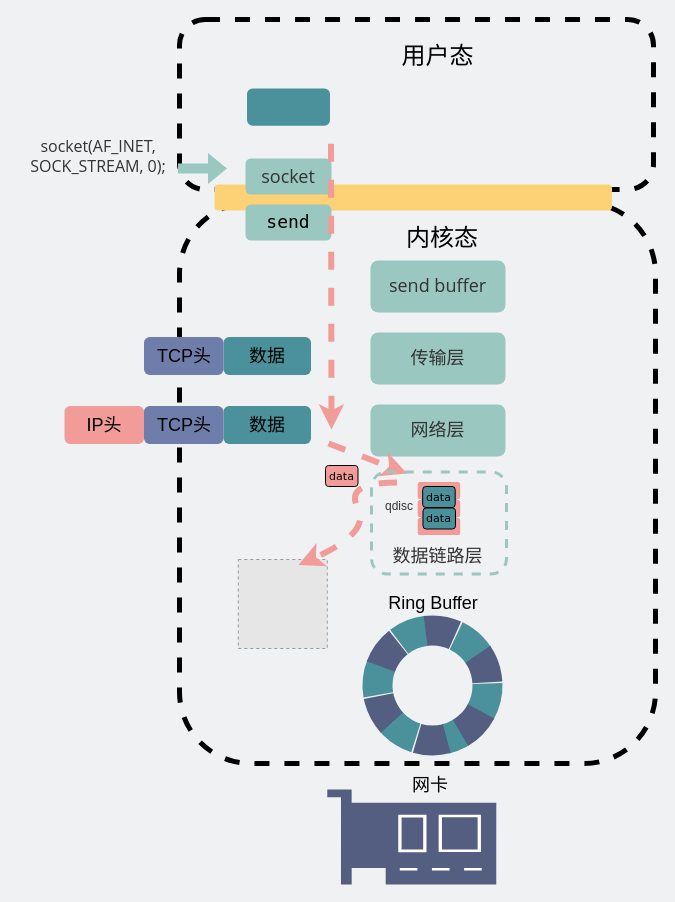
Some shapes in this 675 by 902 pixel diagram are drawn without their labels. Grey dashed boxes stand in for pictures. The centre of each missing label's shape, as x and y in pixels:
"socket接口" belongs at pixel 413 197.
"tcp数据" belongs at pixel 288 106.
